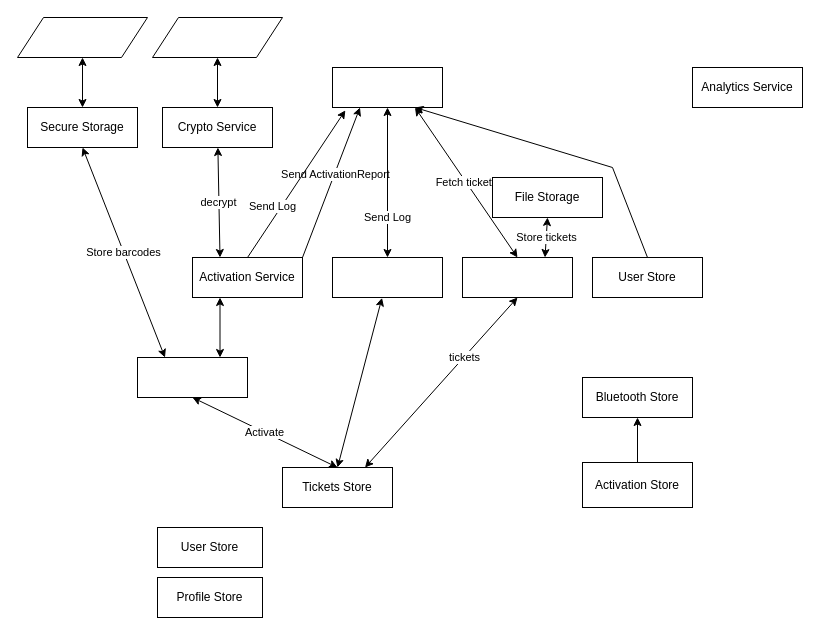
The diagram is 820 pixels wide and 635 high, and some of its shapes have lost their labels. The centre of each missing label's shape, as x and y in pixels:
"API Service" goes at pixel 387 87.
"Barcode Repository" goes at pixel 192 377.
"Decryptor Plugin" goes at pixel 217 37.
"Log Service" goes at pixel 387 277.
"Secure Storage Plugin" goes at pixel 82 37.
"Ticket Repository" goes at pixel 517 277.
